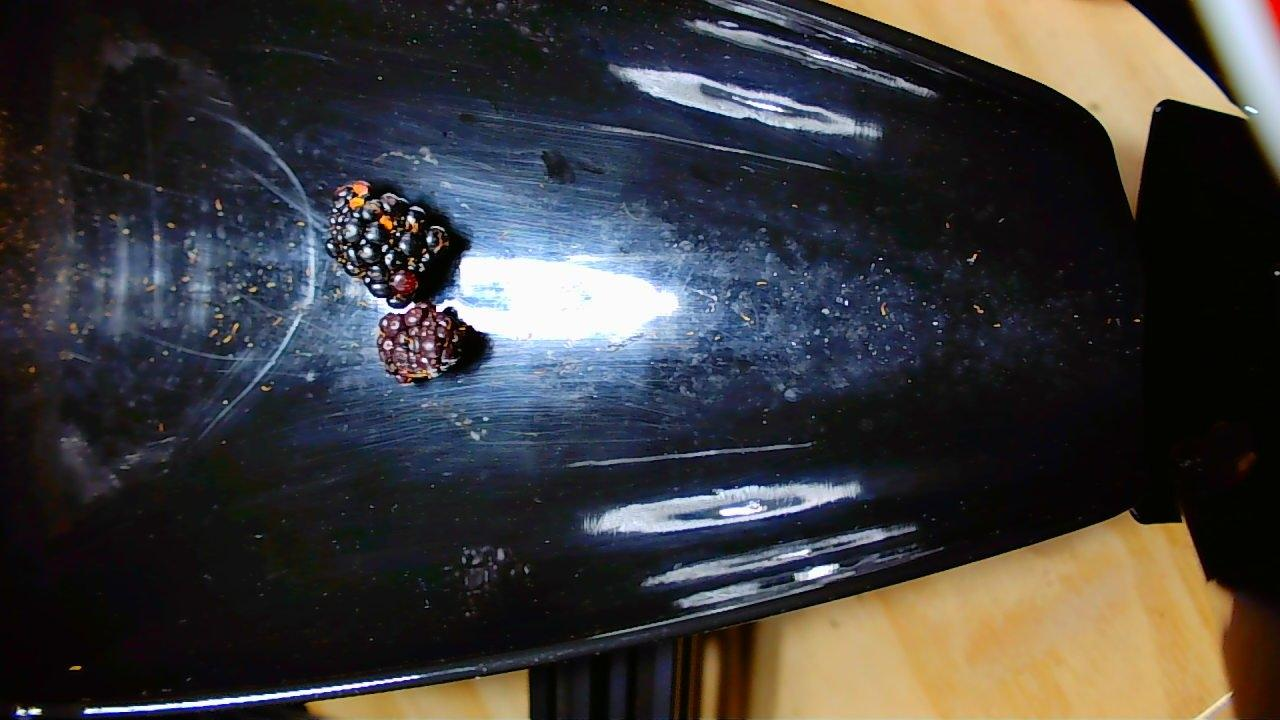berry: (320, 178, 462, 298), (376, 300, 482, 384)
